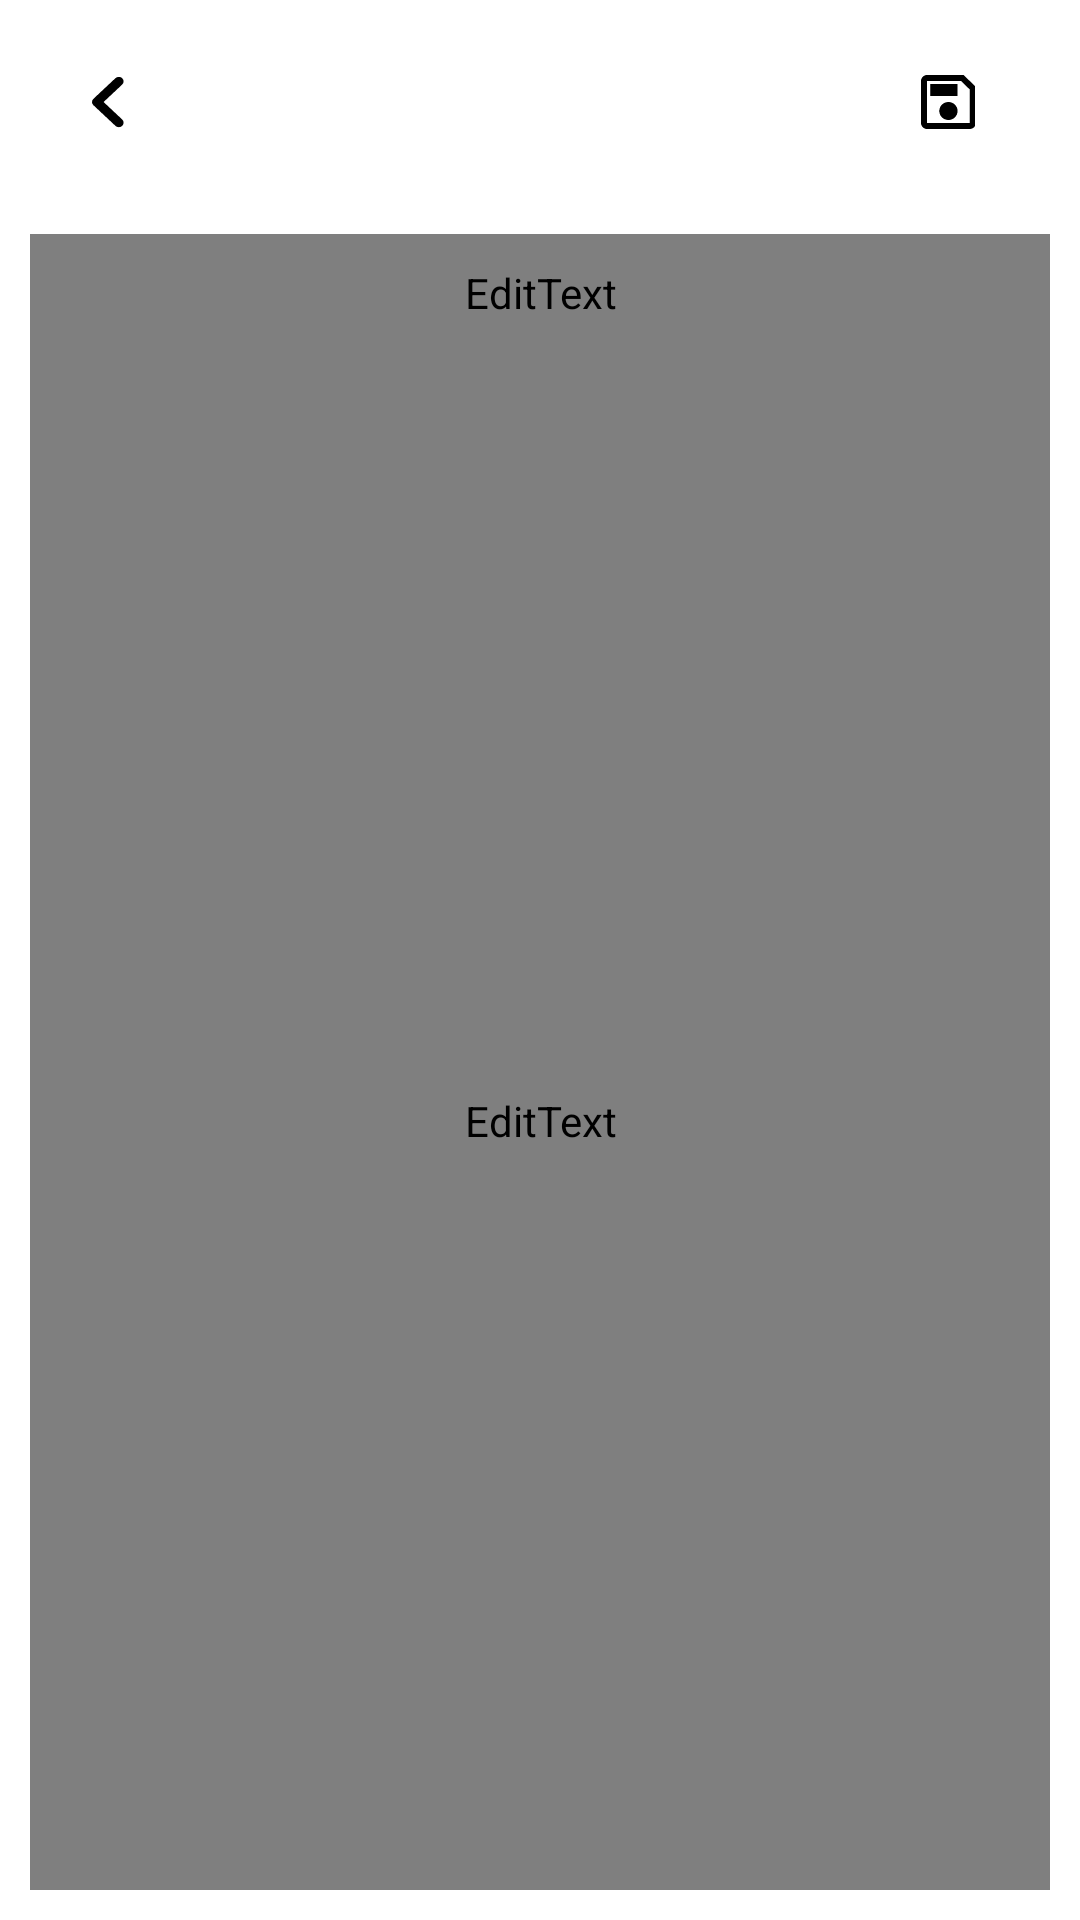

Icons on this 1080 x 1920 Android screen, each with its box as {"x1": x1, "y1": y1, "x2": x2, "y2": y2}:
back arrow: {"x1": 92, "y1": 77, "x2": 124, "y2": 128}
save: {"x1": 921, "y1": 75, "x2": 975, "y2": 129}
